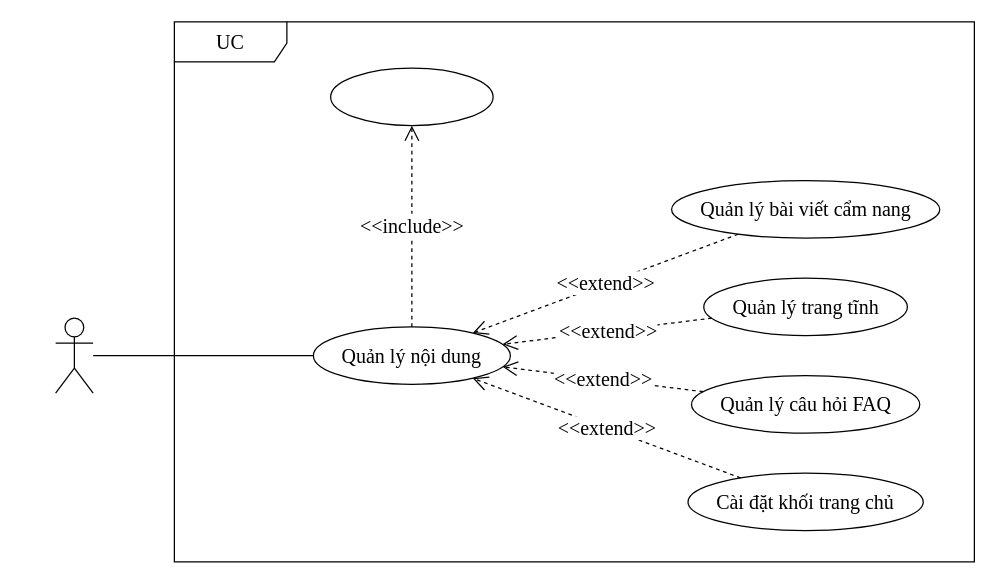
The diagram is 996 pixels wide and 584 high, and some of its shapes have lost their labels. Here are the shapes that lost their labels. From the top down, the centre of each, then its label:
At point 411,96: "Đăng nhập".
At point 73,355: "Quản trị viên".
